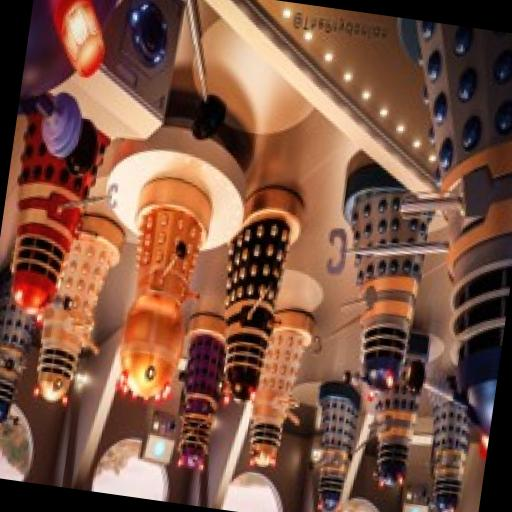dalek: (305, 12, 512, 456), (9, 0, 245, 198), (302, 160, 444, 404), (108, 173, 218, 406), (206, 180, 310, 409), (0, 108, 107, 326), (30, 214, 128, 410), (330, 325, 462, 425), (241, 310, 317, 474), (360, 334, 432, 492), (166, 313, 234, 474), (412, 387, 478, 512), (302, 378, 363, 512), (0, 264, 43, 431)
